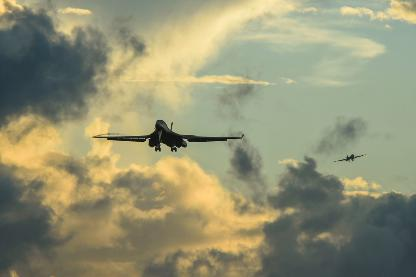AV8B: (91, 119, 241, 150), (332, 153, 366, 161)
